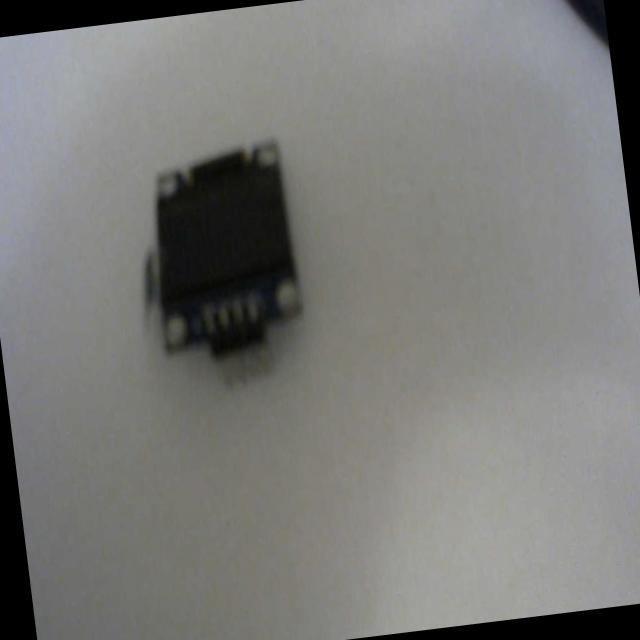oled: (120, 129, 323, 404)
